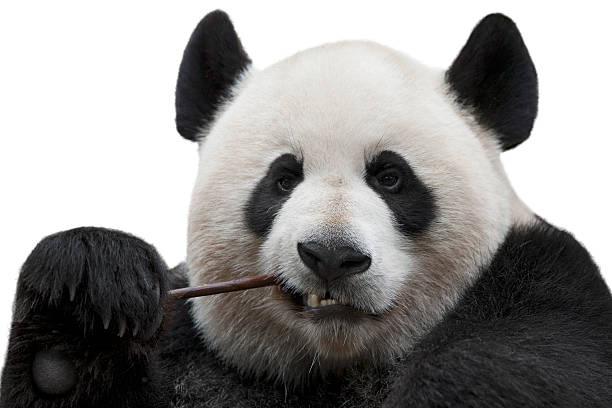panda: (146, 4, 575, 390)
